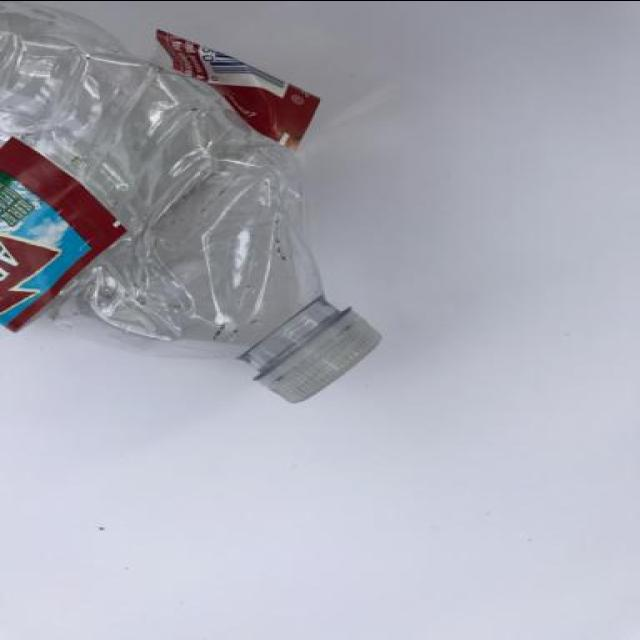litter: (0, 1, 390, 410)
